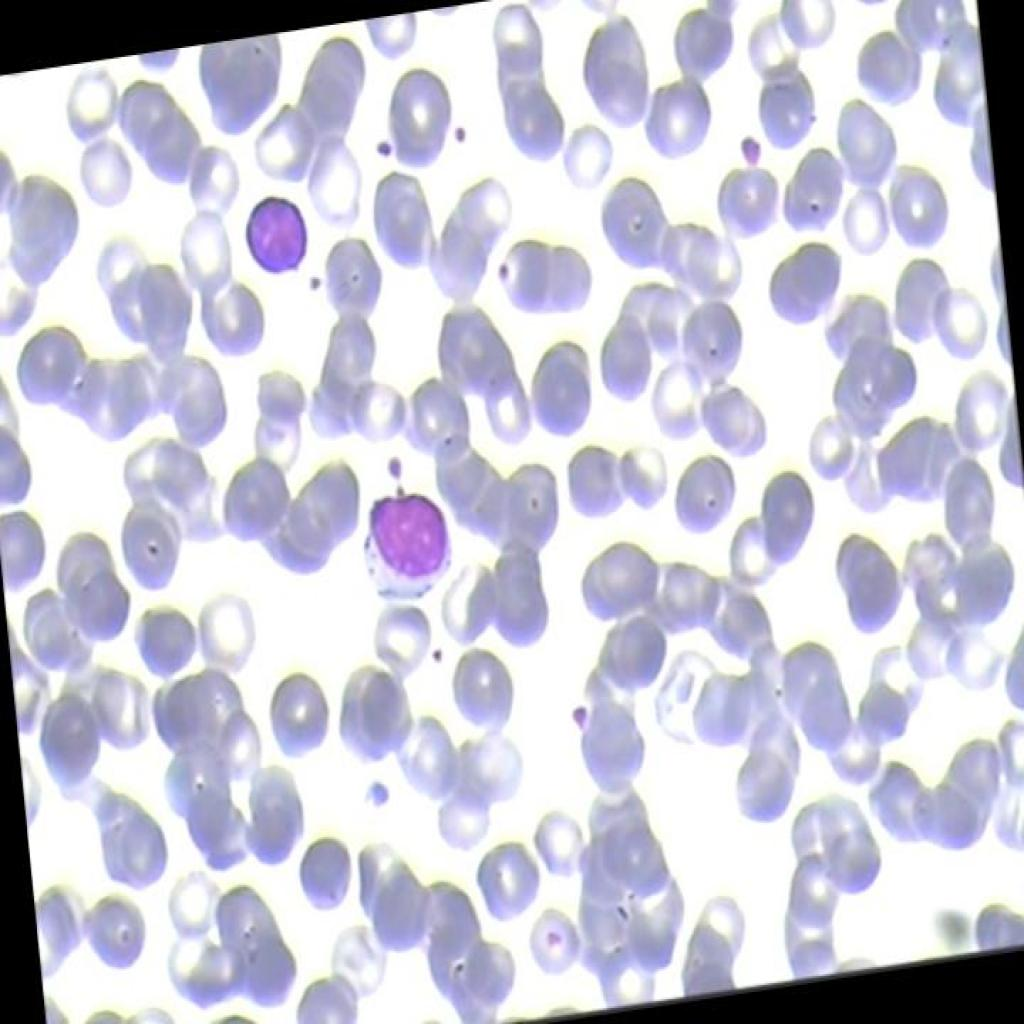Limfosit: (338, 473, 461, 613), (232, 176, 318, 284)
Platelet: (722, 124, 776, 182), (357, 117, 405, 171), (360, 762, 394, 820), (564, 684, 598, 736), (415, 629, 454, 672), (298, 261, 332, 306), (374, 441, 411, 480), (486, 245, 516, 288), (447, 108, 472, 156)
